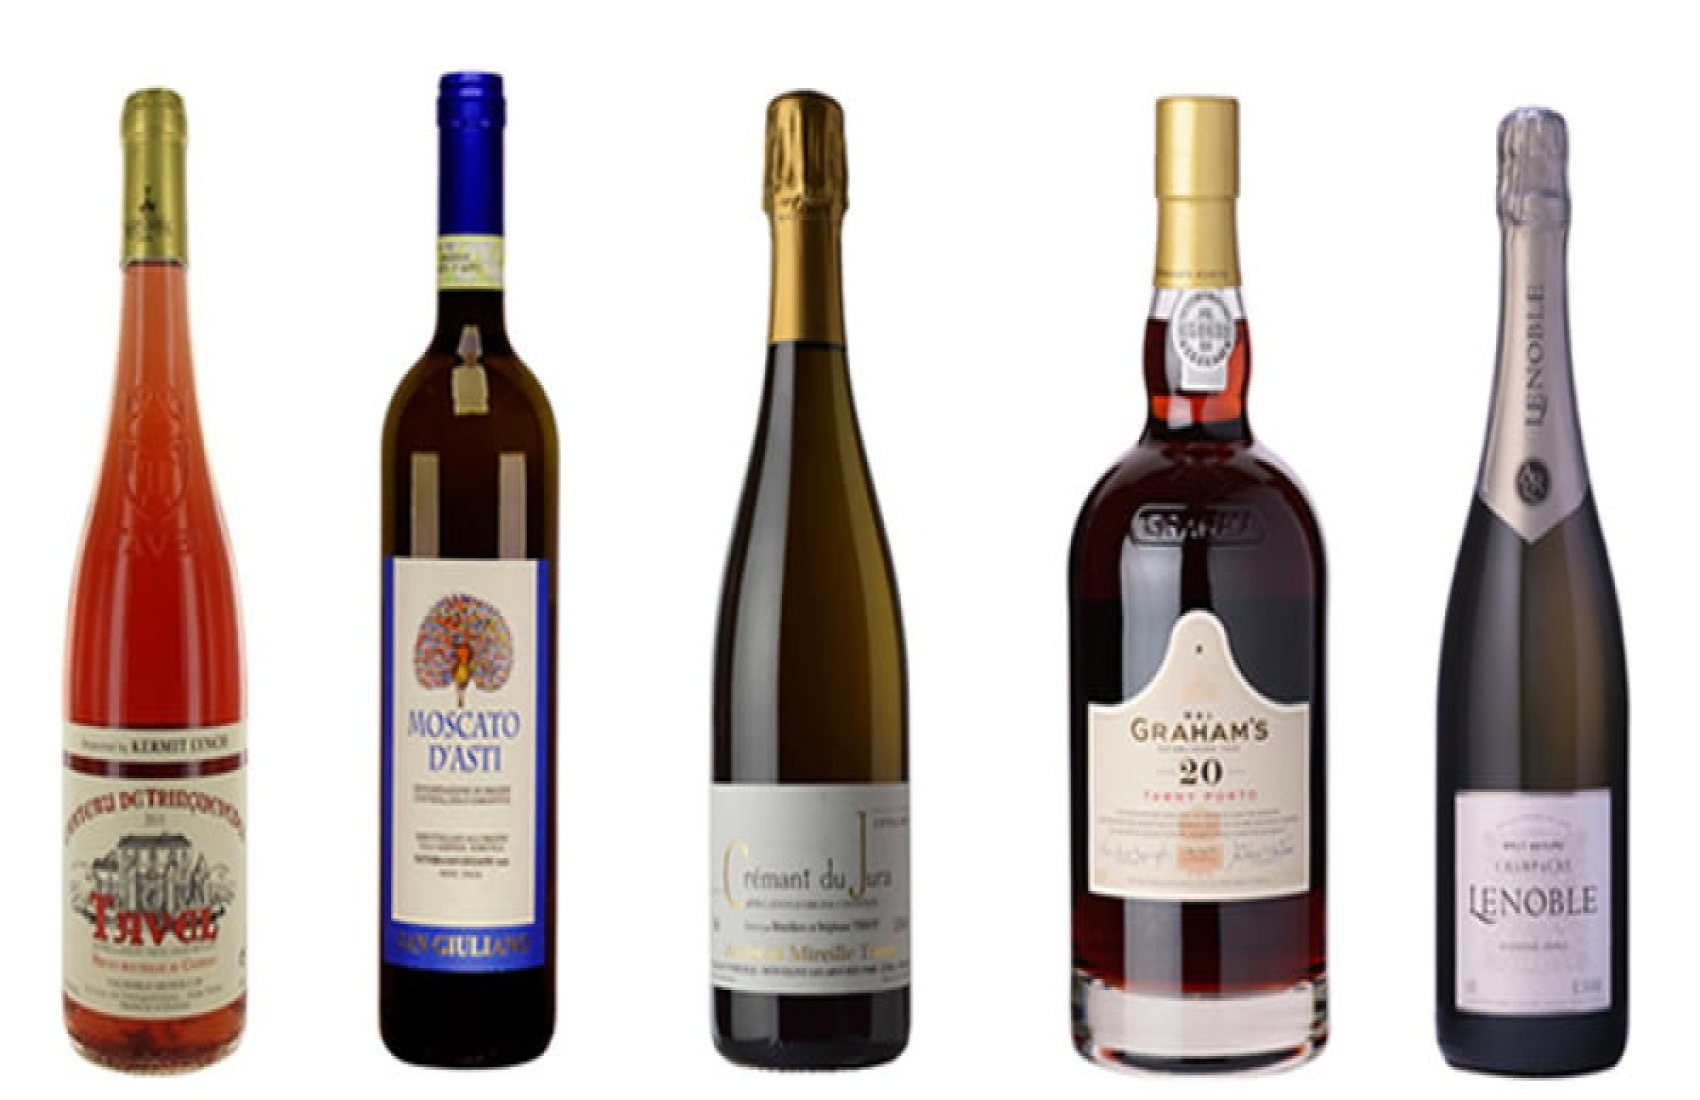wine: (1074, 94, 1331, 1075), (709, 102, 911, 1055), (1426, 103, 1628, 1057), (387, 110, 554, 1070), (73, 103, 240, 1063)
